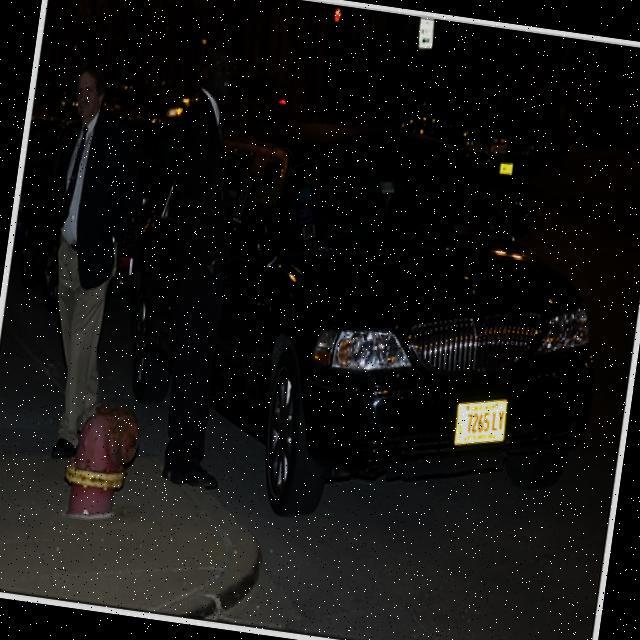fire_hydrant: (58, 400, 145, 522)
